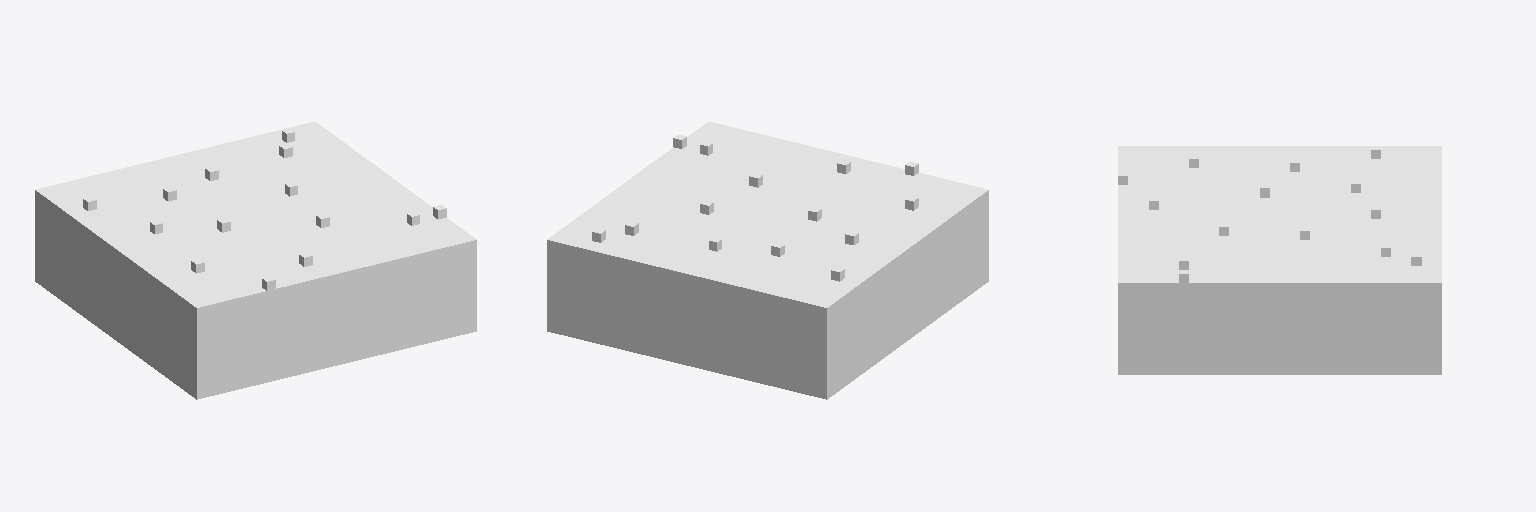
Rendered from GrassTile.obj.
The picture shows the model from 3 angles: view 1: azimuth 30°, elevation 25°; view 2: azimuth 150°, elevation 25°; view 3: azimuth 270°, elevation 25°; orthographic projection.
Visible parts, largest first — view 1: object 1; view 2: object 1; view 3: object 1.
Part boxes in pixels (left/top/right/bottom): object 1: left=35, top=122, right=476, bottom=399; object 1: left=547, top=122, right=988, bottom=399; object 1: left=1118, top=146, right=1441, bottom=374.
Bounding box in the file's own units: 3.2 × 1.1 × 3.2.